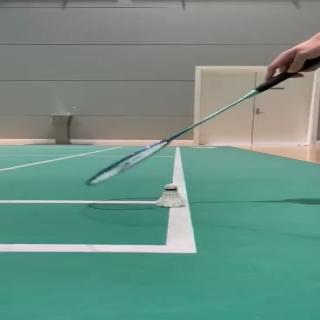Shuttle: (154, 183, 188, 207)
